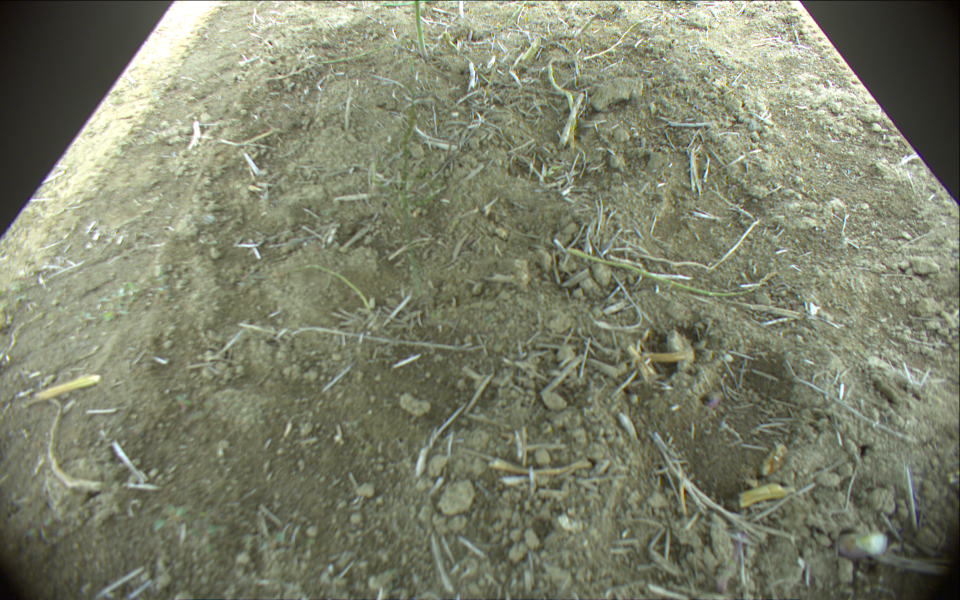aspa: (567, 246, 776, 296), (310, 42, 396, 66), (414, 1, 431, 58)
